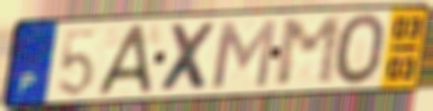5: (55, 26, 100, 98)
A: (94, 22, 155, 99)
M: (274, 14, 344, 90), (210, 17, 280, 91)
O: (333, 11, 389, 88)
X: (156, 20, 221, 94)
